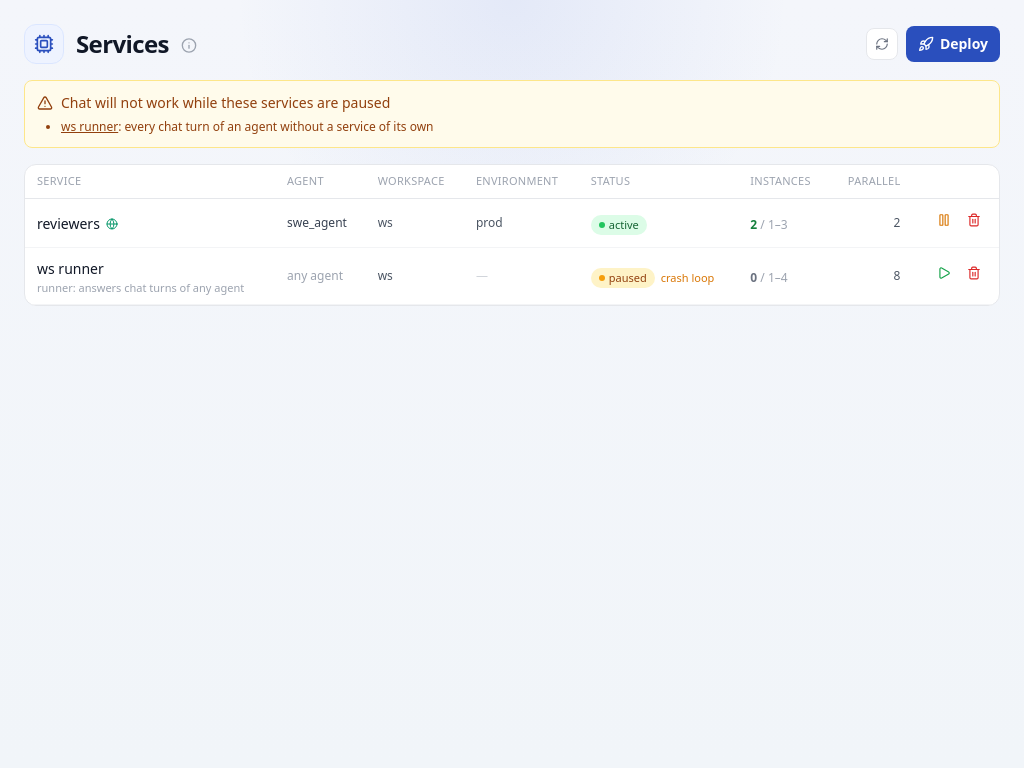
Test case: Services page › asks before deleting and opens the deploy form
Check: the link "reviewers" is shown, box [37,214,118,234]
Click the button titled "Delete" in the row of "reviewers" at (974, 220), box [961,206,987,232]
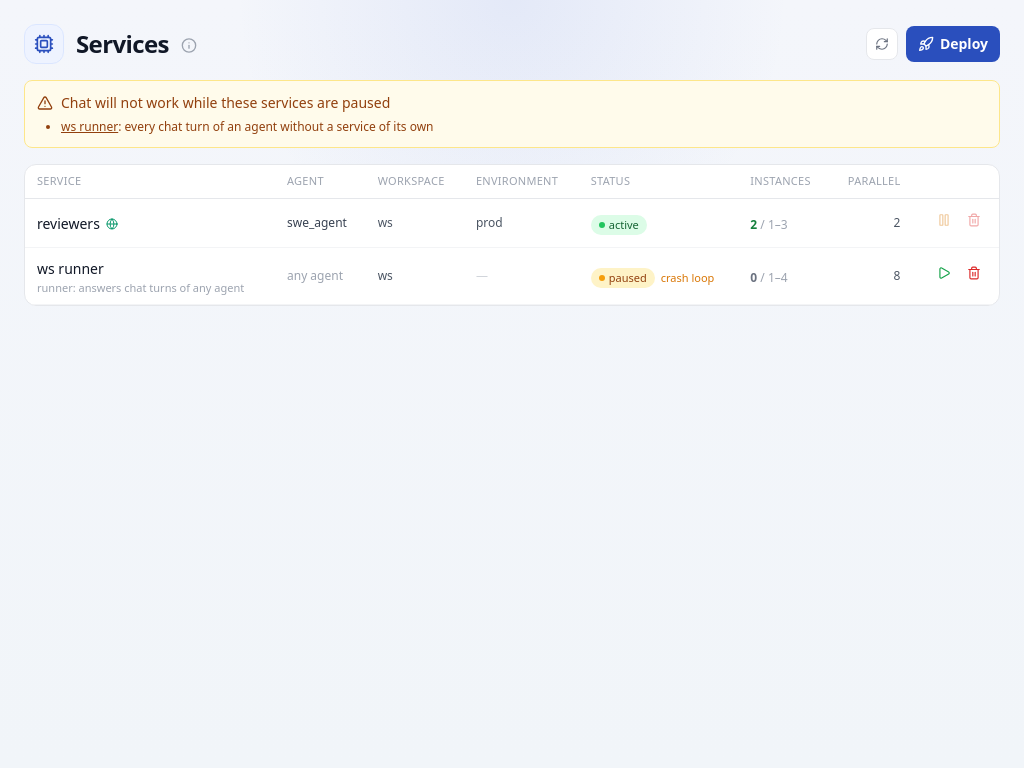
Click the button "Deploy" at (953, 44), box [906,26,1000,62]
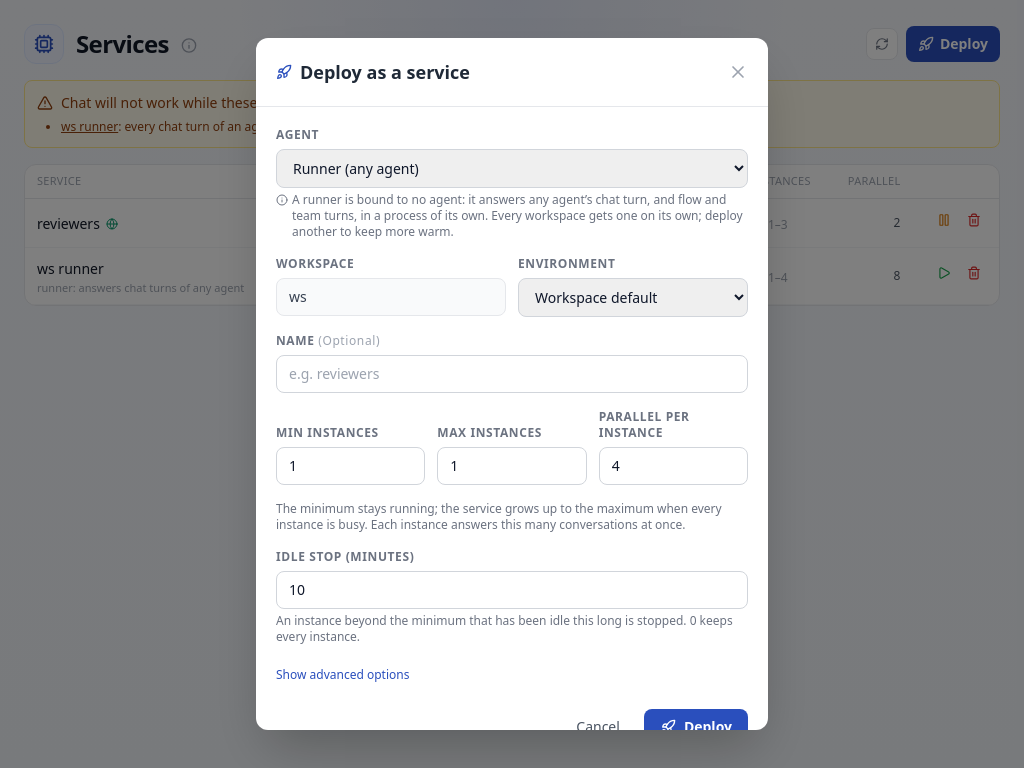
Check: the heading "Deploy as a service" is shown, box [276,58,470,86]
